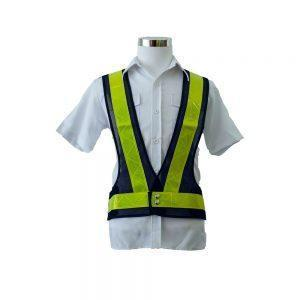vest: (100, 61, 210, 220)
